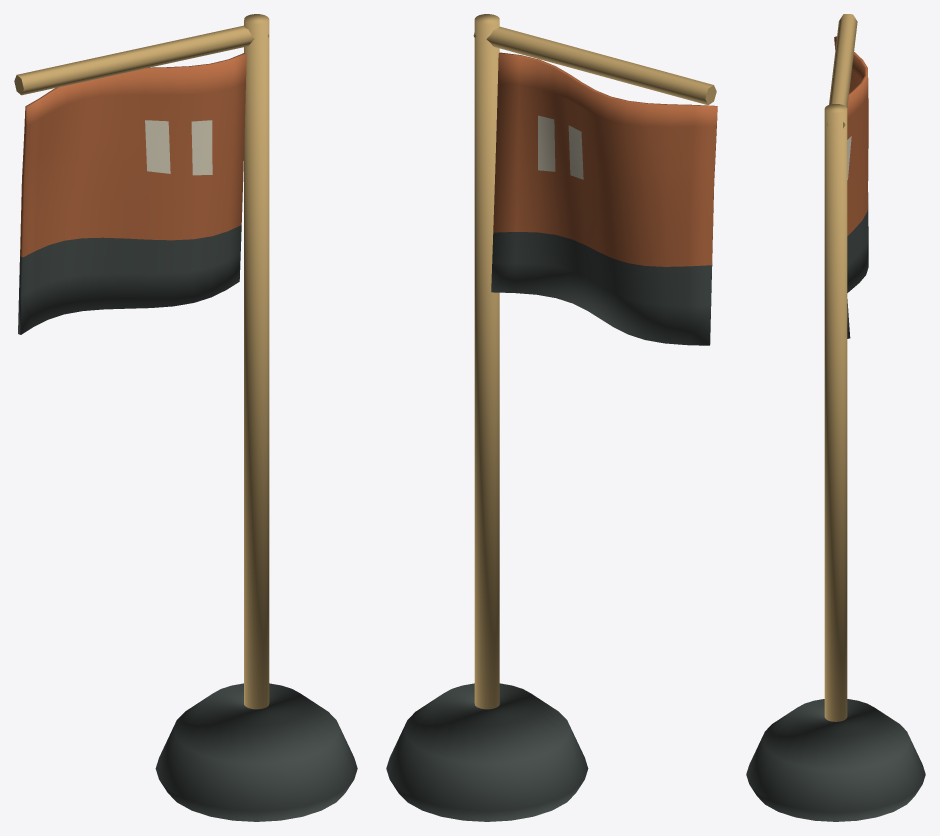
The model's file is fanflag.copper-gulls.glb.
3 renders of one model, left to right at view 1: azimuth 30°, elevation 25°; view 2: azimuth 150°, elevation 25°; view 3: azimuth 270°, elevation 25°, orthographic. The views are drawn at different scales.
Visible parts, largest first — view 1: Weighted pedestal; view 2: Weighted pedestal; view 3: Weighted pedestal.
Boxes of the visible parts, x1,y1,x2,y2 form: Weighted pedestal: [14, 14, 357, 821]; Weighted pedestal: [386, 14, 717, 821]; Weighted pedestal: [746, 14, 925, 821].
Bounding box in the file's own units: 0.8011 × 1.84 × 0.44.
